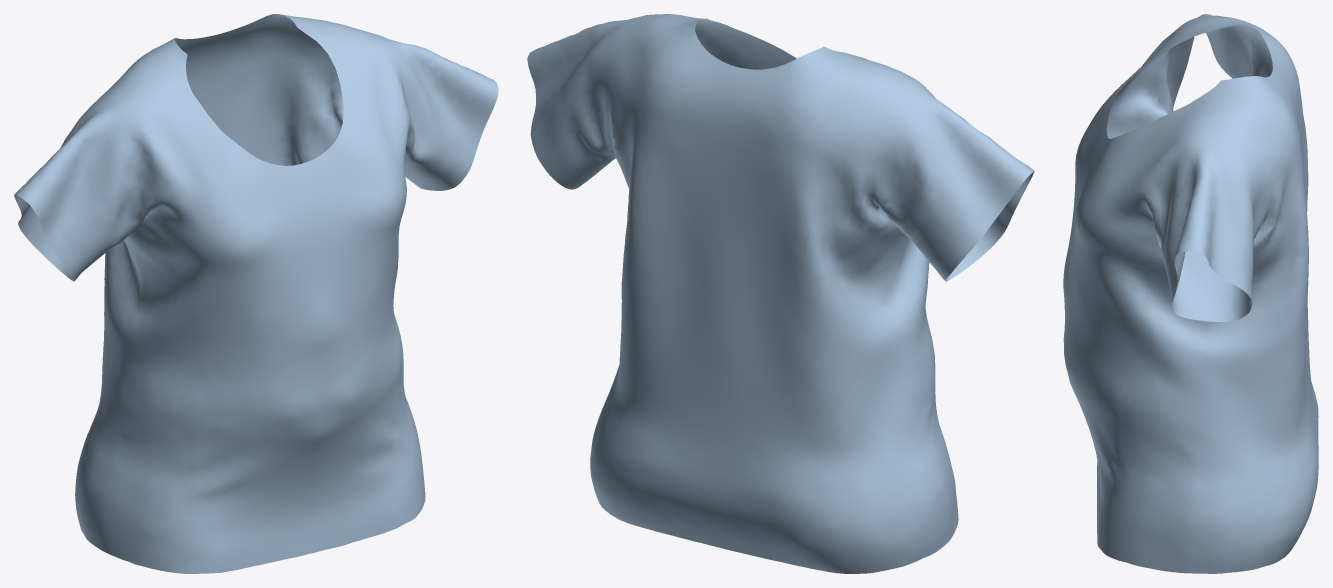
File: tee_XXL.glb
The picture shows the model from 3 angles, left to right: view 1: azimuth 30°, elevation 25°; view 2: azimuth 150°, elevation 25°; view 3: azimuth 270°, elevation 25°; orthographic projection. The views are drawn at different scales.
Visible parts, largest first — view 1: geometry_0; view 2: geometry_0; view 3: geometry_0.
Part boxes in pixels (box(x1,y1,x2,y2)): geometry_0: box(14, 14, 498, 573); geometry_0: box(527, 14, 1034, 573); geometry_0: box(1063, 14, 1318, 573).
Size of the model in its own units: 0.6838 by 0.6455 by 0.3282.
